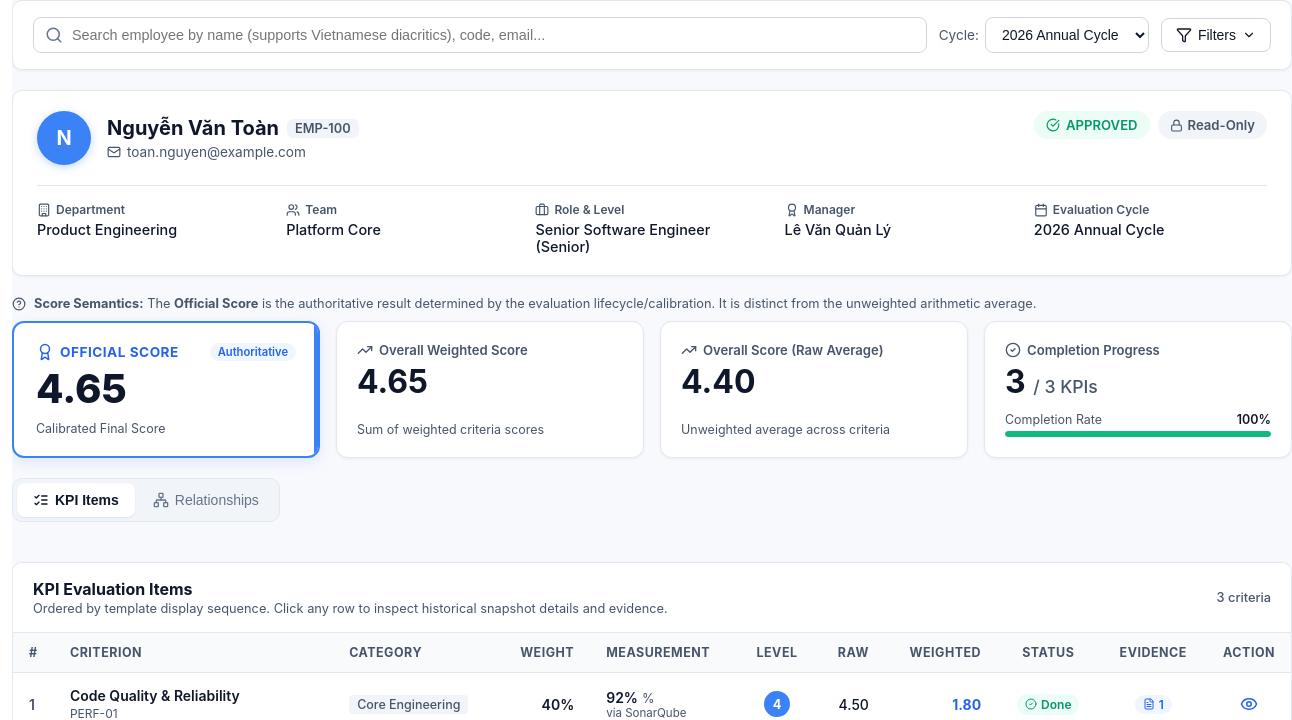
KpiSummaryDashboardPage › TC46: In embedded mode switches between KPI items and relationships with sub-tabs
Expected: the heading "KPI Evaluation Items" is shown, [33,579,192,599]
Expected: the text "Organizational & Evaluation Relationship Diagram" is not shown
Click the tab "Relationships" at (206, 500), box [137,483,275,517]
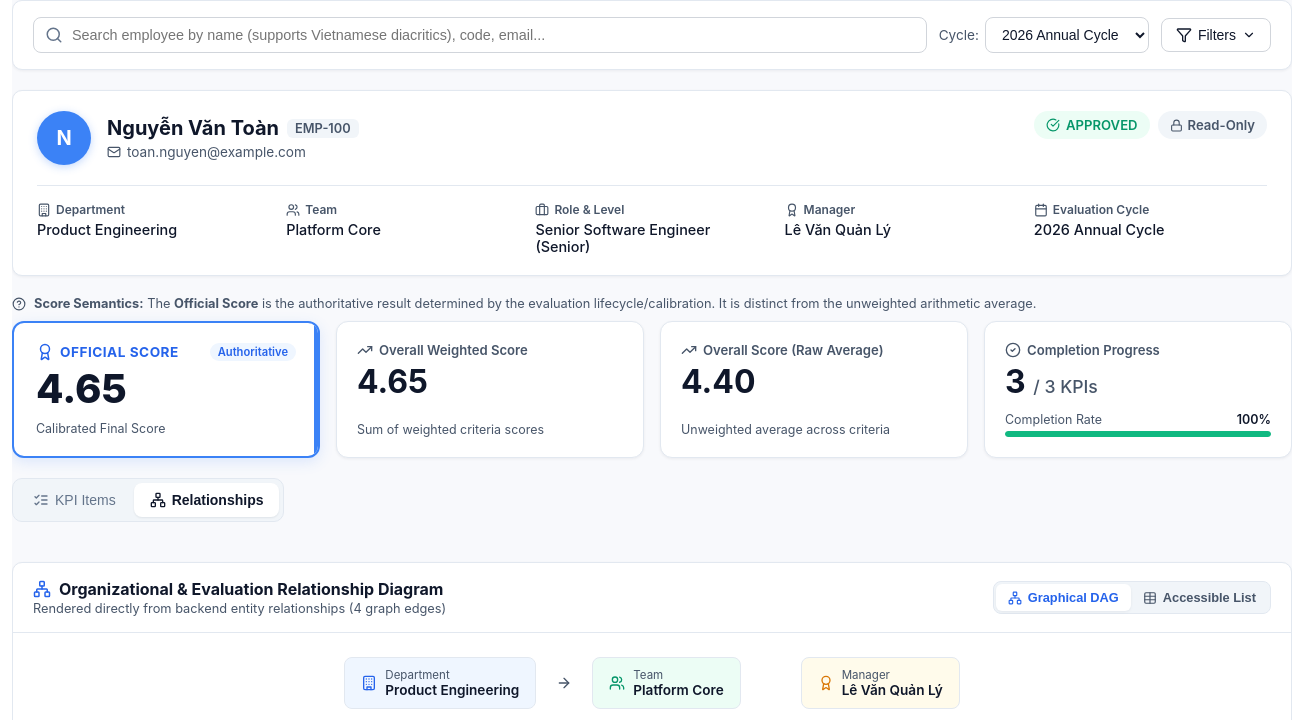
Expected: the heading "Organizational & Evaluation Relationship Diagram" is shown, [33,579,446,599]
Expected: the heading "KPI Evaluation Items" is gone
